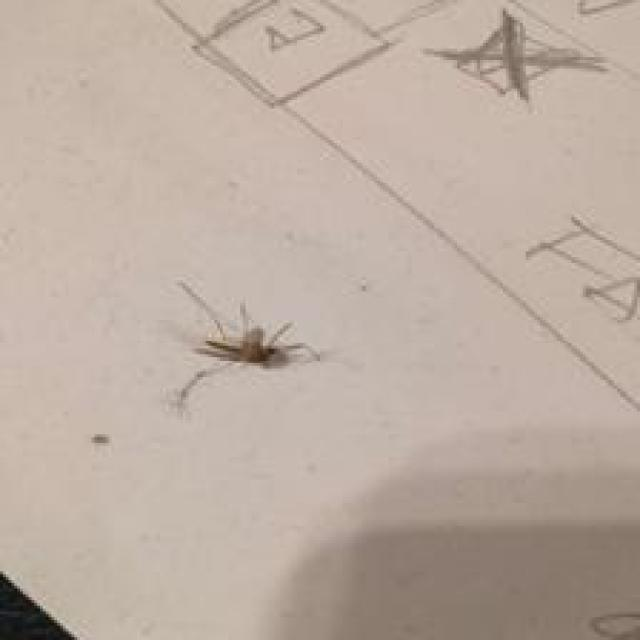Culex: (423, 7, 608, 104)
